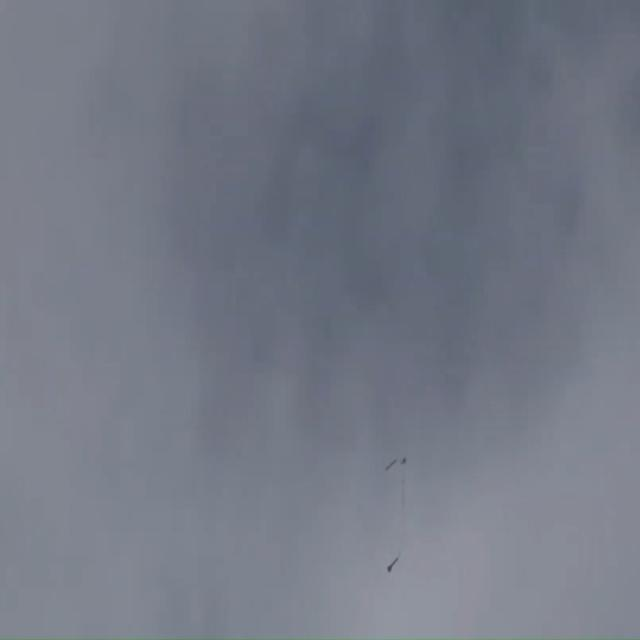Rocket: (387, 556, 399, 573)
